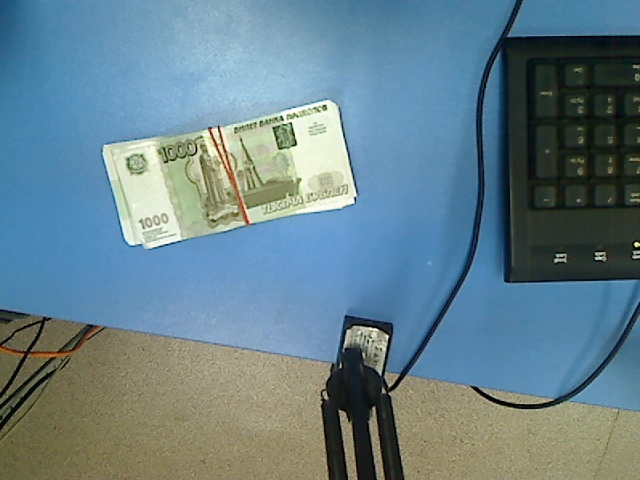banknotes: (101, 100, 358, 253)
